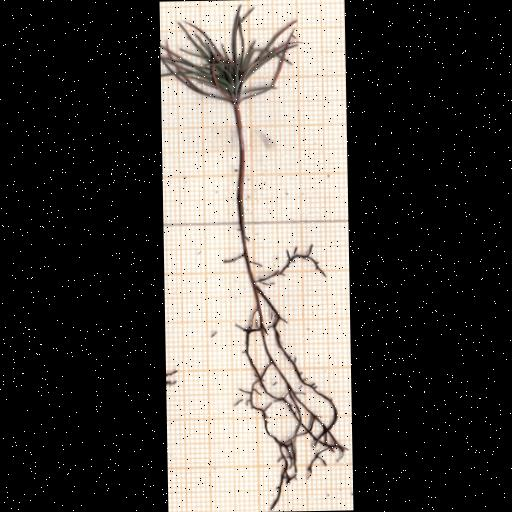flowerCedr: (159, 6, 297, 105)
rootCedr: (238, 246, 334, 510)
stemCedr: (232, 105, 246, 257)
